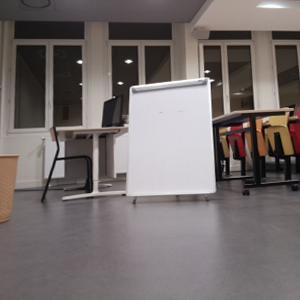big: (128, 80, 217, 196)
medium: (1, 154, 19, 227)
